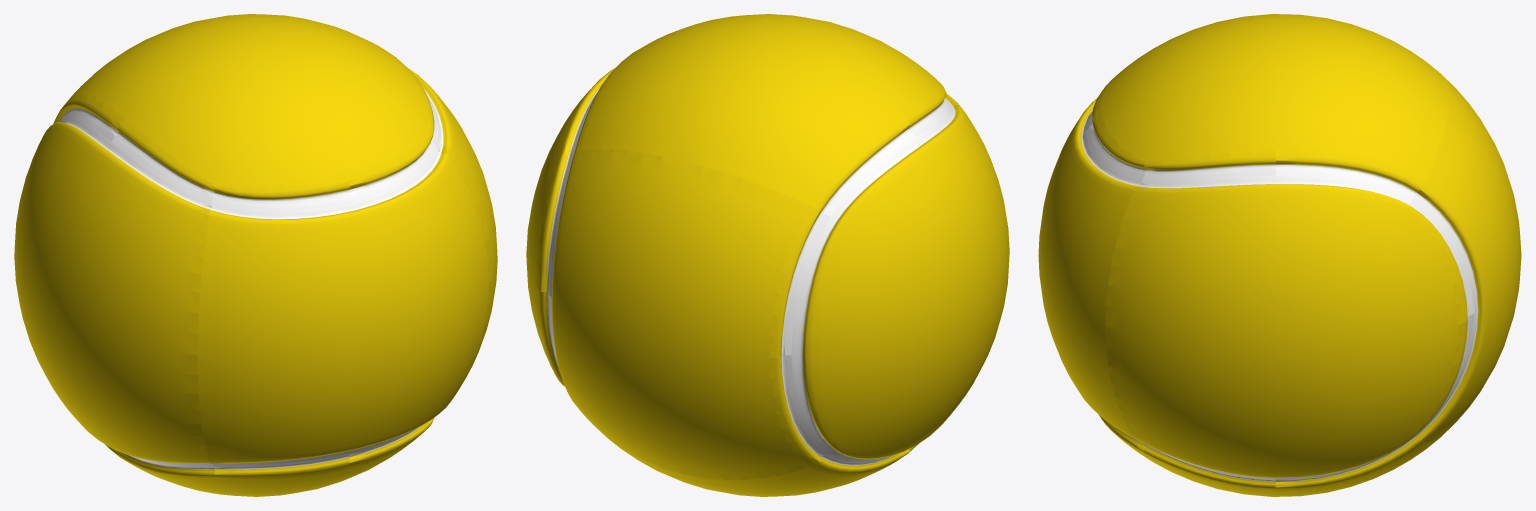
Rendered from TennisBall.fbx.
3 renders of one model, left to right at view 1: azimuth 30°, elevation 25°; view 2: azimuth 150°, elevation 25°; view 3: azimuth 270°, elevation 25°, orthographic.
Parts seen in each view (by area): view 1: Box001; view 2: Box001; view 3: Box001.
Part boxes in pixels (left/top/right/bottom): Box001: left=14, top=14, right=497, bottom=496; Box001: left=526, top=14, right=1009, bottom=496; Box001: left=1038, top=14, right=1521, bottom=496.
Size of the model in its own units: 2.18 by 2.18 by 2.19.
